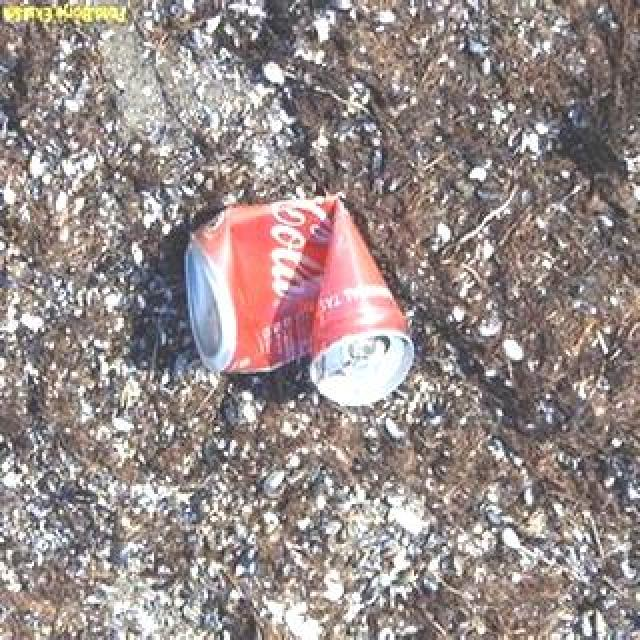Can: (171, 195, 413, 423)
